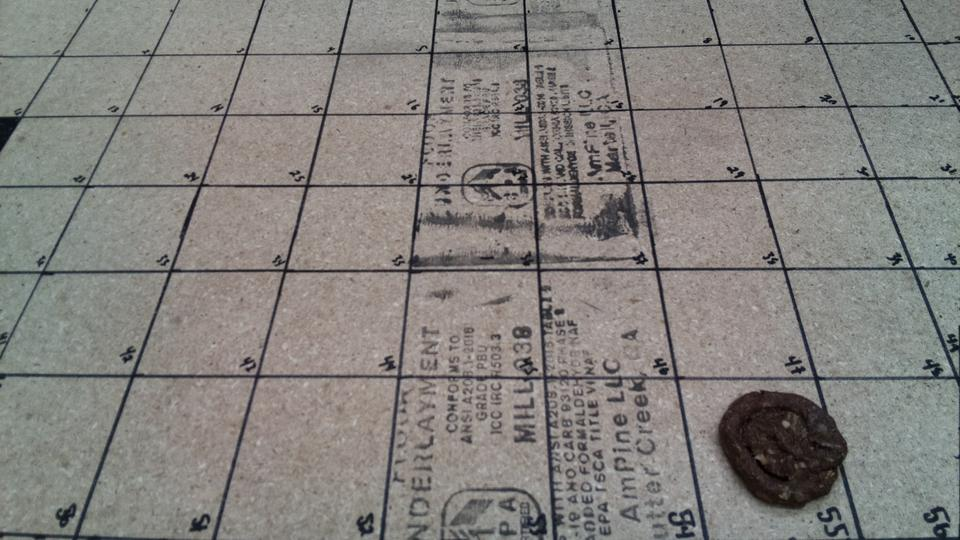poop: (715, 389, 849, 509)
